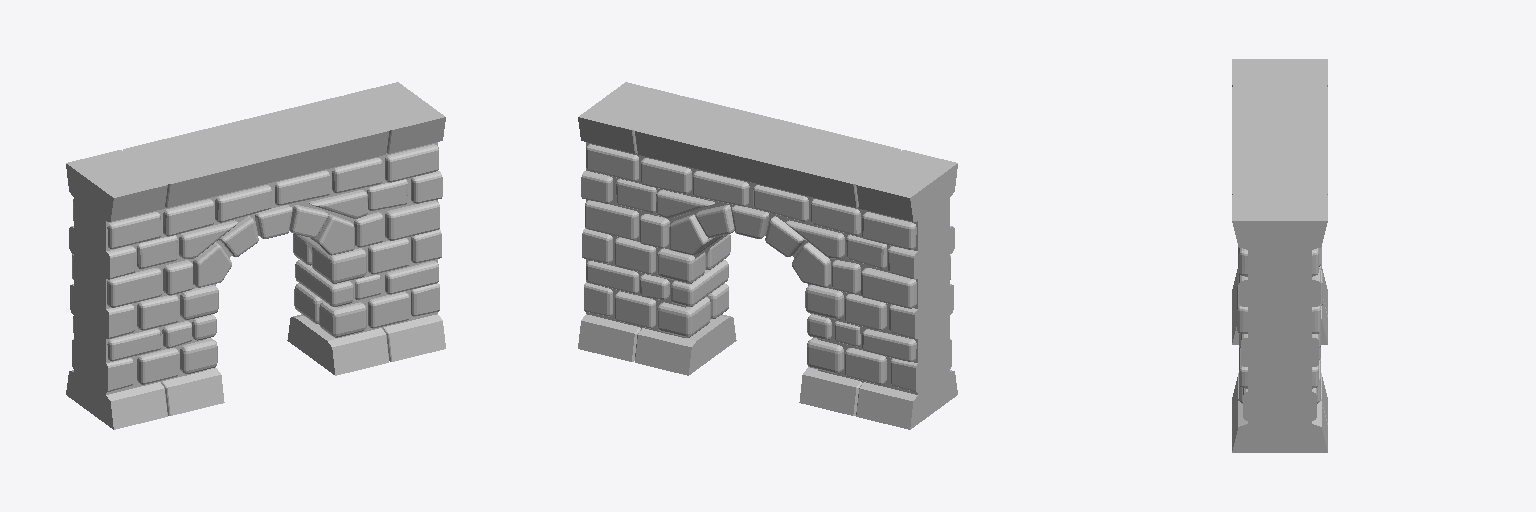
Rendered from wall_door.obj.
3 renders of one model, left to right at view 1: azimuth 30°, elevation 25°; view 2: azimuth 150°, elevation 25°; view 3: azimuth 270°, elevation 25°, orthographic.
Visible parts, largest first — view 1: wall_door_Cube.2614; view 2: wall_door_Cube.2614; view 3: wall_door_Cube.2614.
Part boxes in pixels (x1,y1,x2,y2): wall_door_Cube.2614: (66, 82, 445, 429); wall_door_Cube.2614: (578, 82, 957, 429); wall_door_Cube.2614: (1232, 59, 1327, 452).
Bounding box in the file's own units: 6 × 4 × 1.5.